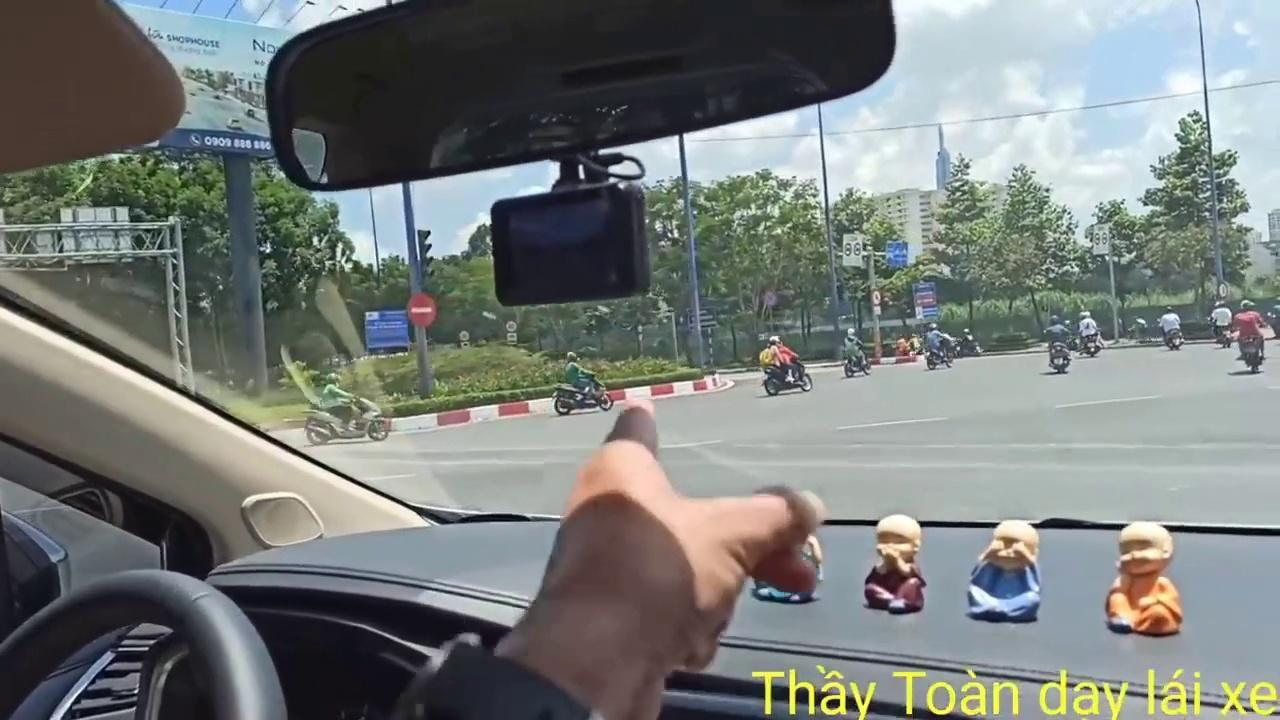Cấm cac phương tiện hoạt động trong khung giờ cố định: (842, 233, 863, 269)
Cấm đi ngược chiều: (404, 292, 438, 329)
Khác: (364, 309, 411, 349), (913, 280, 942, 321)
Làn đường cho từng xe: (884, 240, 909, 268)
